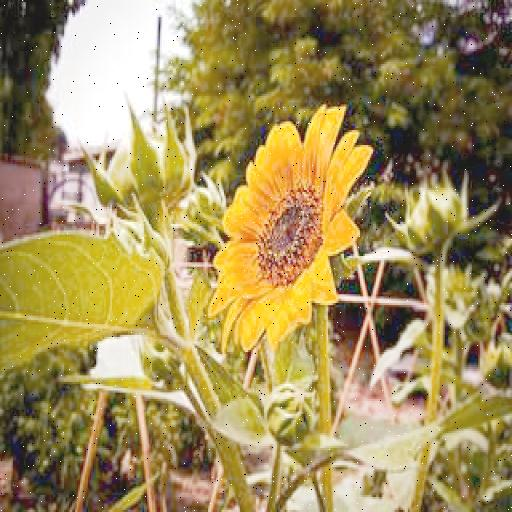sunflower: (208, 100, 371, 354)
